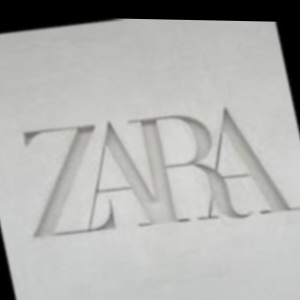zara: (290, 57, 300, 128)
